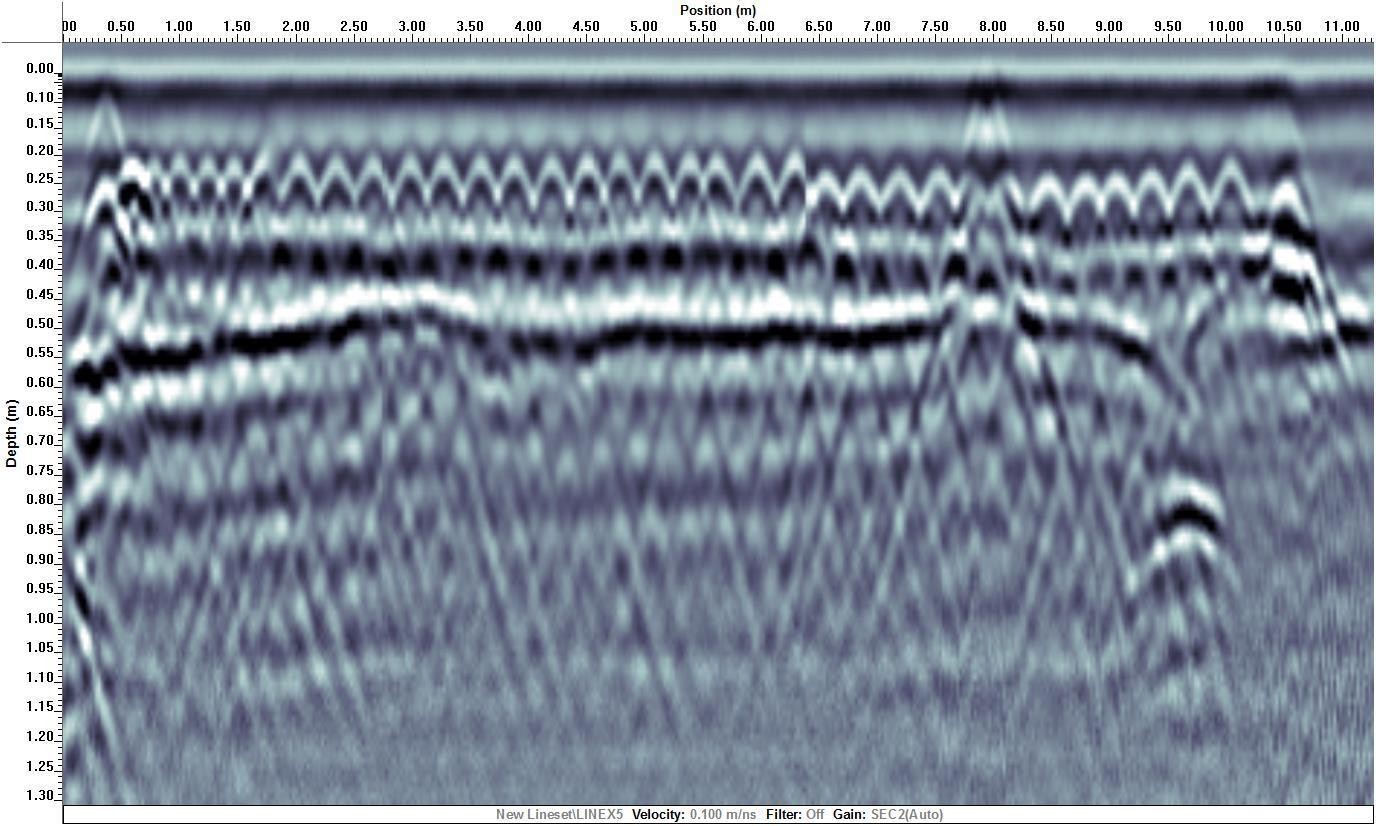hyperbola: (391, 147, 428, 222), (424, 149, 461, 224), (462, 149, 499, 224), (496, 146, 533, 221), (532, 145, 569, 220), (569, 143, 606, 218), (604, 142, 641, 217), (634, 144, 671, 219), (668, 143, 705, 218), (700, 139, 737, 214), (354, 141, 391, 216), (318, 139, 355, 214), (280, 135, 317, 210), (734, 141, 771, 216), (841, 157, 878, 232), (876, 160, 913, 235), (915, 162, 952, 237), (1032, 168, 1069, 243), (1068, 166, 1105, 241), (1100, 165, 1137, 240), (1132, 162, 1169, 237), (1169, 159, 1206, 234), (1212, 153, 1249, 228)
